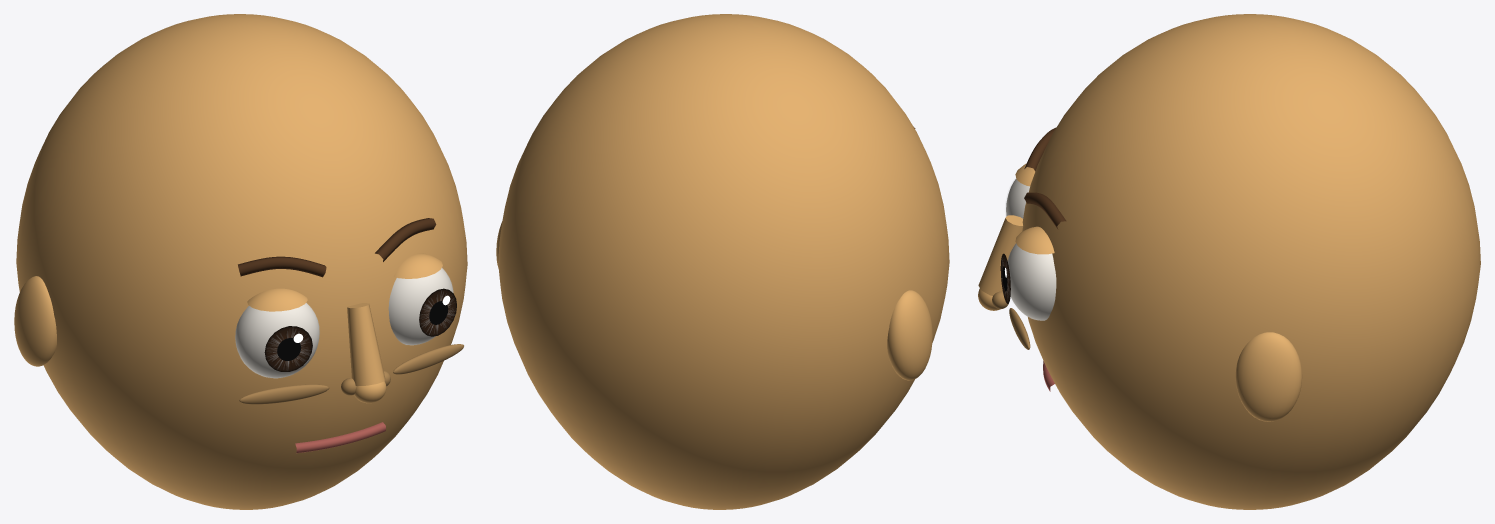
The model's file is 13-cernes.glb.
3 views of the same model, side by side, from view 1: azimuth 30°, elevation 25°; view 2: azimuth 150°, elevation 25°; view 3: azimuth 270°, elevation 25° (orthographic).
Bounding box in the file's own units: 0.3087 × 0.321 × 0.3166.
Materials: 9 (1 with a texture image).
